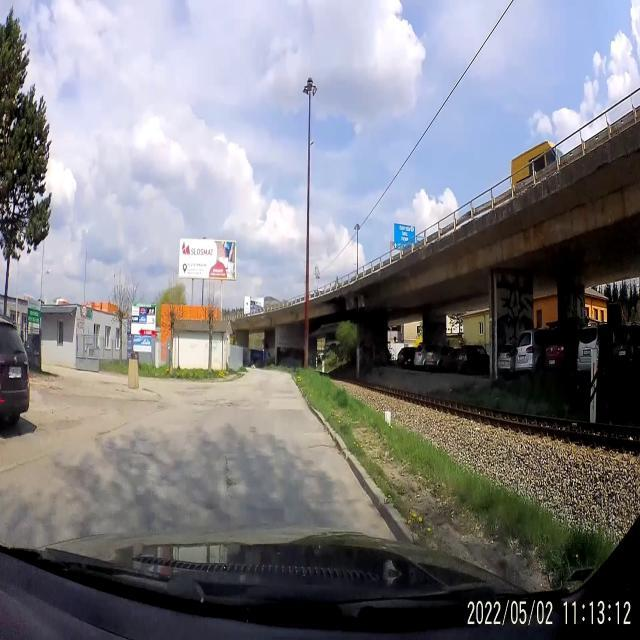Pothole: (220, 442, 240, 503), (306, 442, 335, 452), (192, 402, 206, 406), (216, 398, 226, 403), (206, 398, 216, 403), (226, 402, 233, 408)
